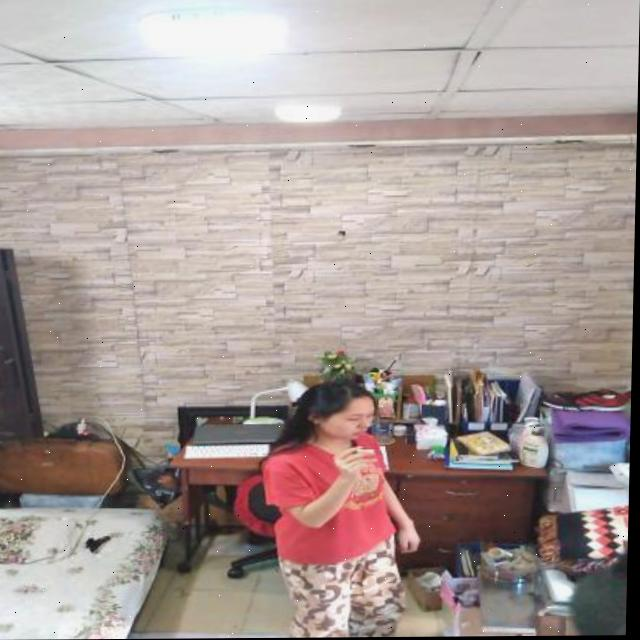cigarette: (358, 450, 379, 454)
